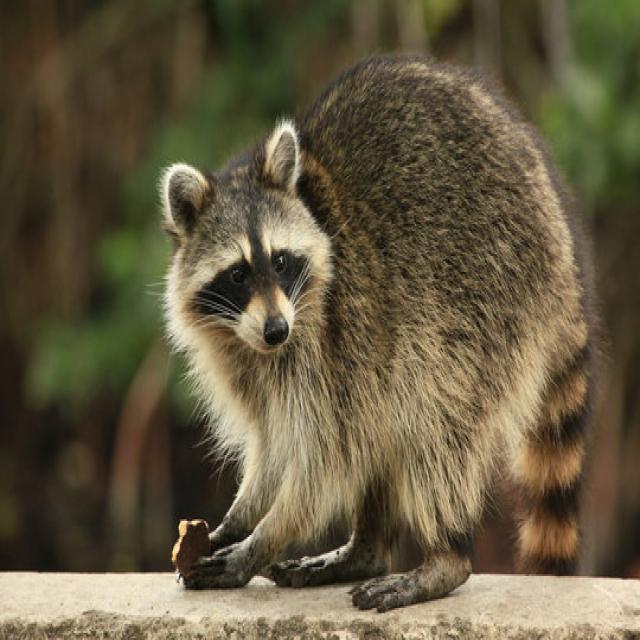Raccoon: (157, 58, 581, 609)
